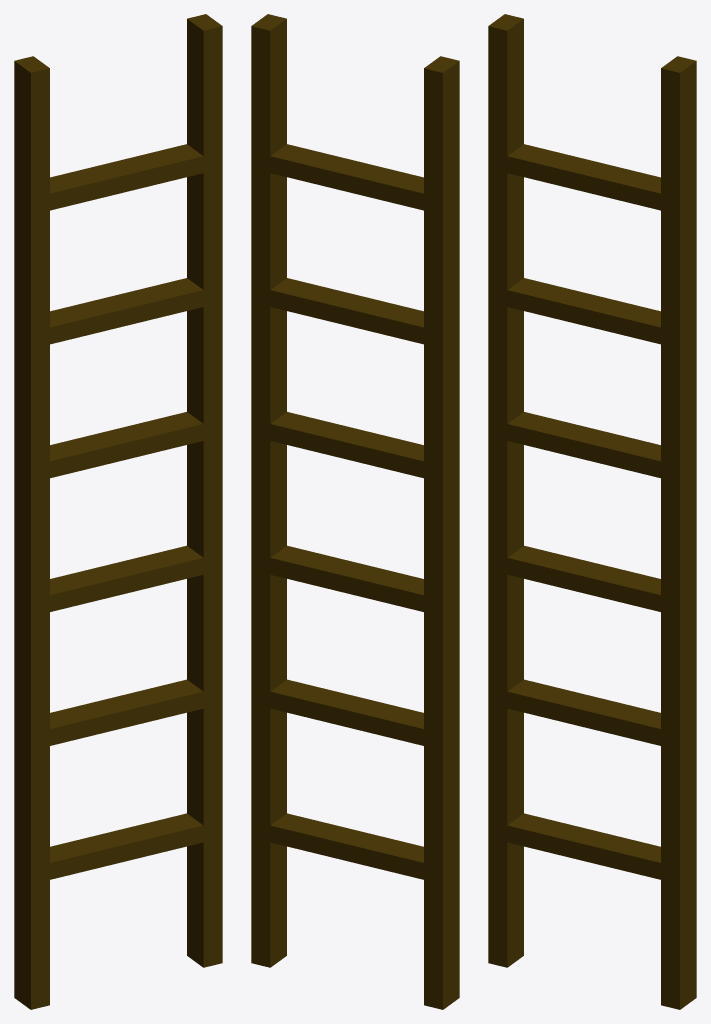
Rendered from ladder.fbx.
3 views of the same model, side by side, from view 1: azimuth 30°, elevation 25°; view 2: azimuth 150°, elevation 25°; view 3: azimuth 330°, elevation 25° (orthographic).
Parts seen in each view (by area): view 1: ladder; view 2: ladder; view 3: ladder.
Part boxes in pixels (left/top/right/bottom): ladder: left=14, top=14, right=222, bottom=1009; ladder: left=251, top=14, right=459, bottom=1009; ladder: left=488, top=14, right=696, bottom=1009.
Size of the model in its own units: 60 by 280 by 9.
